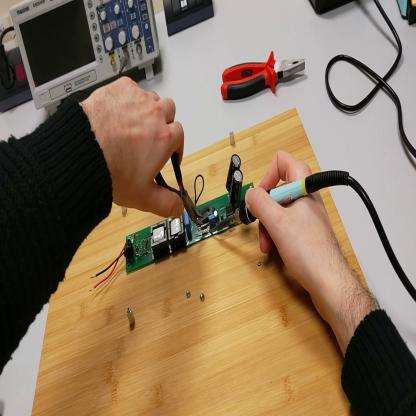hand: (82, 76, 188, 222), (246, 153, 340, 301)
high voltage board: (90, 153, 255, 292)
oscilloscope: (12, 2, 160, 127)
pliers: (222, 48, 310, 101), (156, 155, 204, 229)
socket: (2, 26, 32, 116)
welder base: (397, 2, 416, 29)
welder probe tip: (209, 168, 352, 235)
welder station: (311, 3, 353, 18)
working area: (32, 105, 370, 414)
